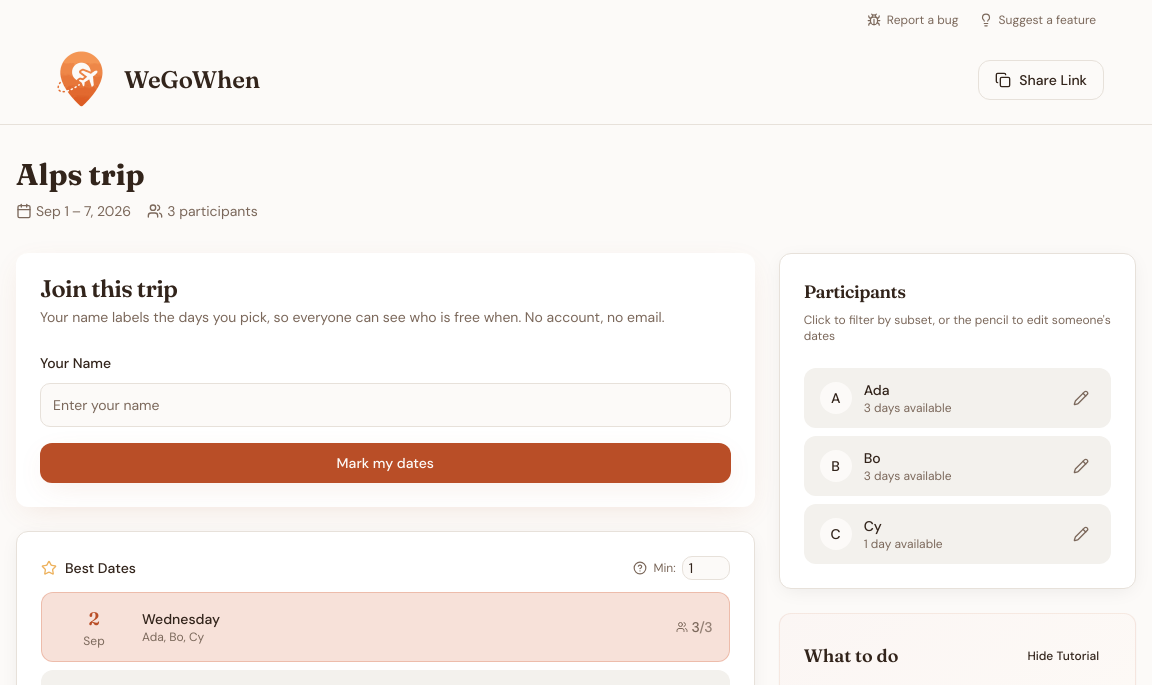
TripPage › filters the recommended dates, not just the calendar
This screenshot has width=1152, height=685.
expect the heading "Alps trip" is shown: met, box x1=16 y1=156 x2=145 y2=193
Click the button "A Ada 3 days available" at (929,398), box x1=804 y1=368 x2=1055 y2=428
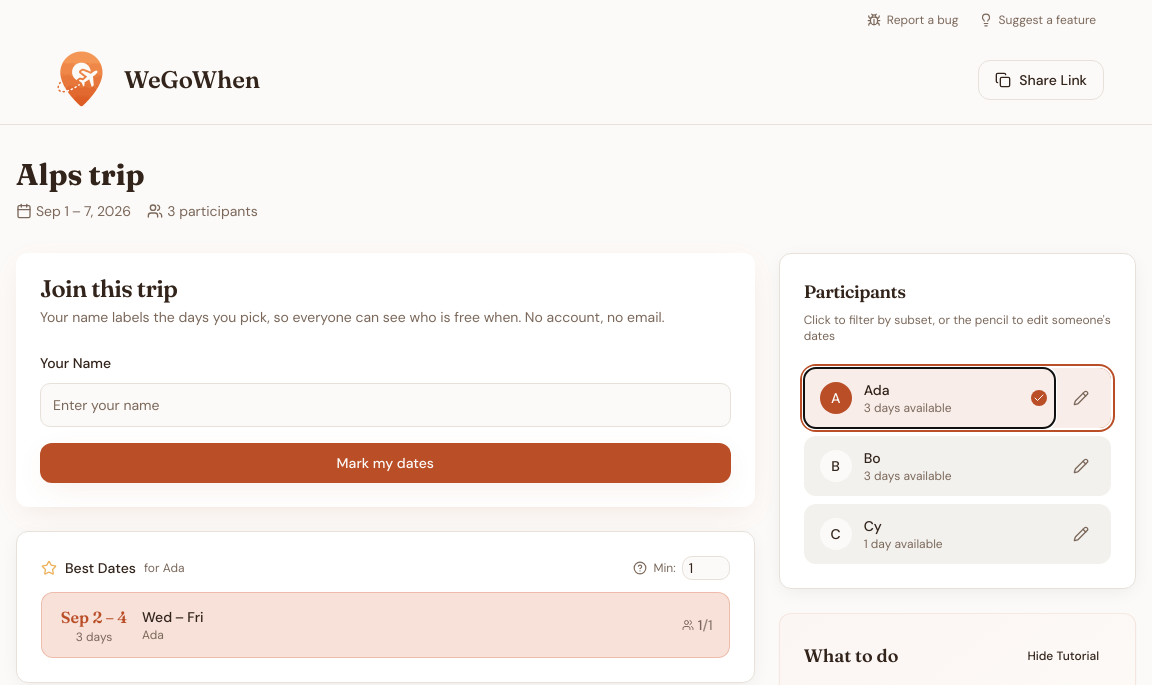
expect the text with test id "best-dates-scope" reads "for Ada": met, box x1=144 y1=560 x2=184 y2=576
